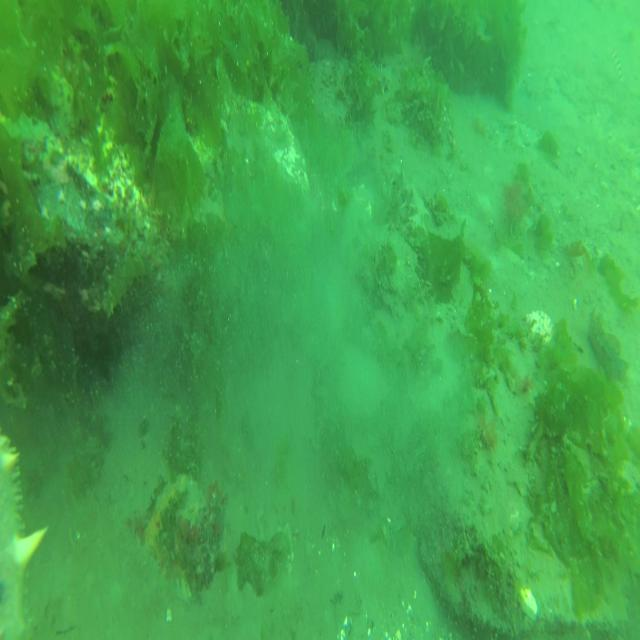holothurian: (0, 436, 47, 640), (384, 165, 430, 236), (366, 56, 394, 96)
scallop: (526, 310, 555, 340)
